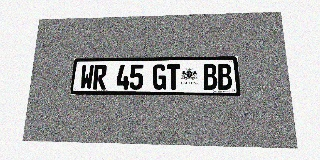4: (116, 64, 130, 90)
5: (130, 64, 143, 90)
B: (217, 64, 233, 90), (203, 64, 218, 90)
G: (153, 64, 166, 90)
R: (93, 65, 107, 90)
T: (167, 64, 180, 90)
W: (80, 65, 94, 89)
